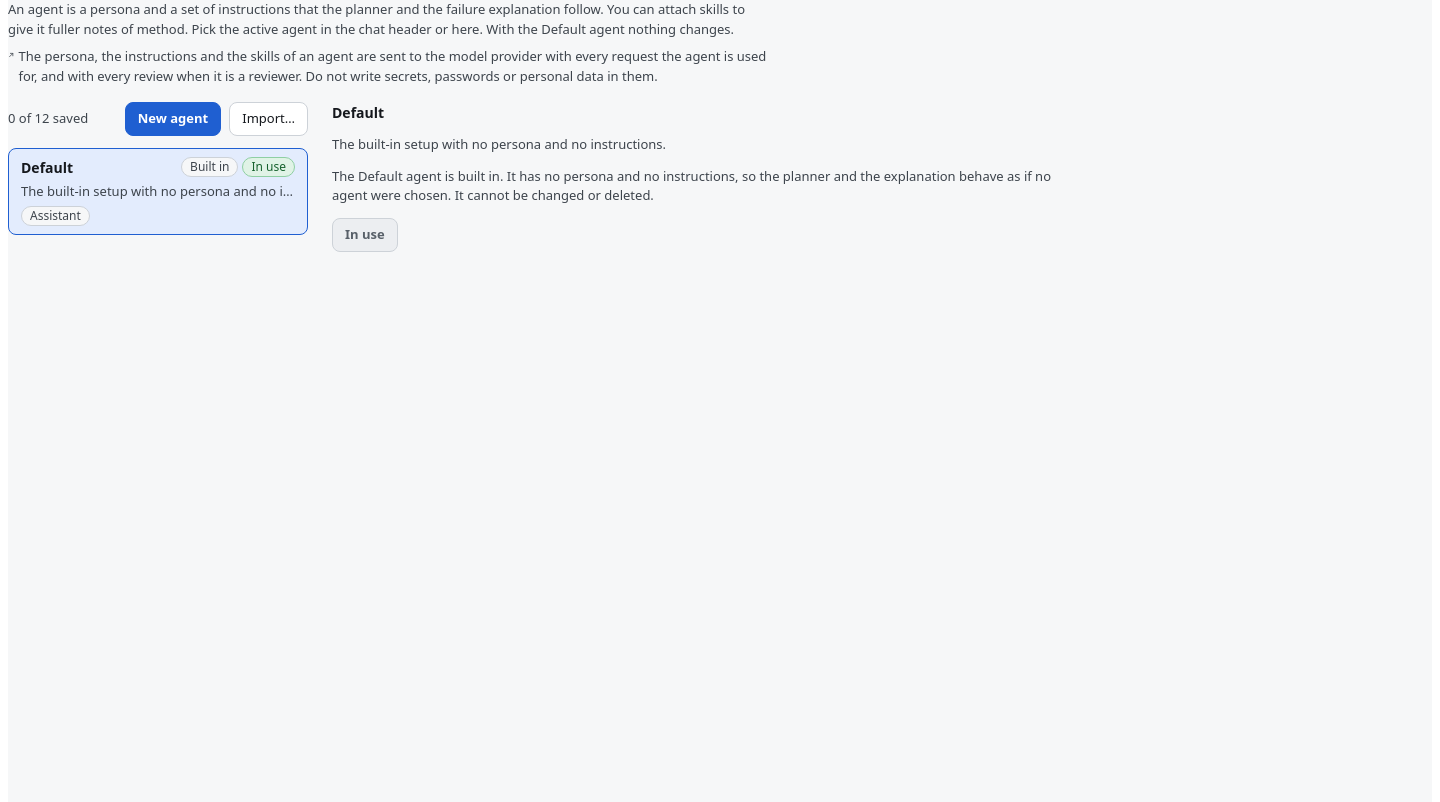
the review of an imported file › lists every problem with a plain message and a line number, and blocks Save
The width and height of the screenshot is (1440, 802).
Later steps or results of the test are not shown.
Expected: the list named "Agent list" is shown, [8, 148, 308, 234]
What coordinates should you click on to do the following:
click the button "Import…"
I would click on:
 (269, 119)
Its box is [229, 102, 308, 136].
(page scrolled)
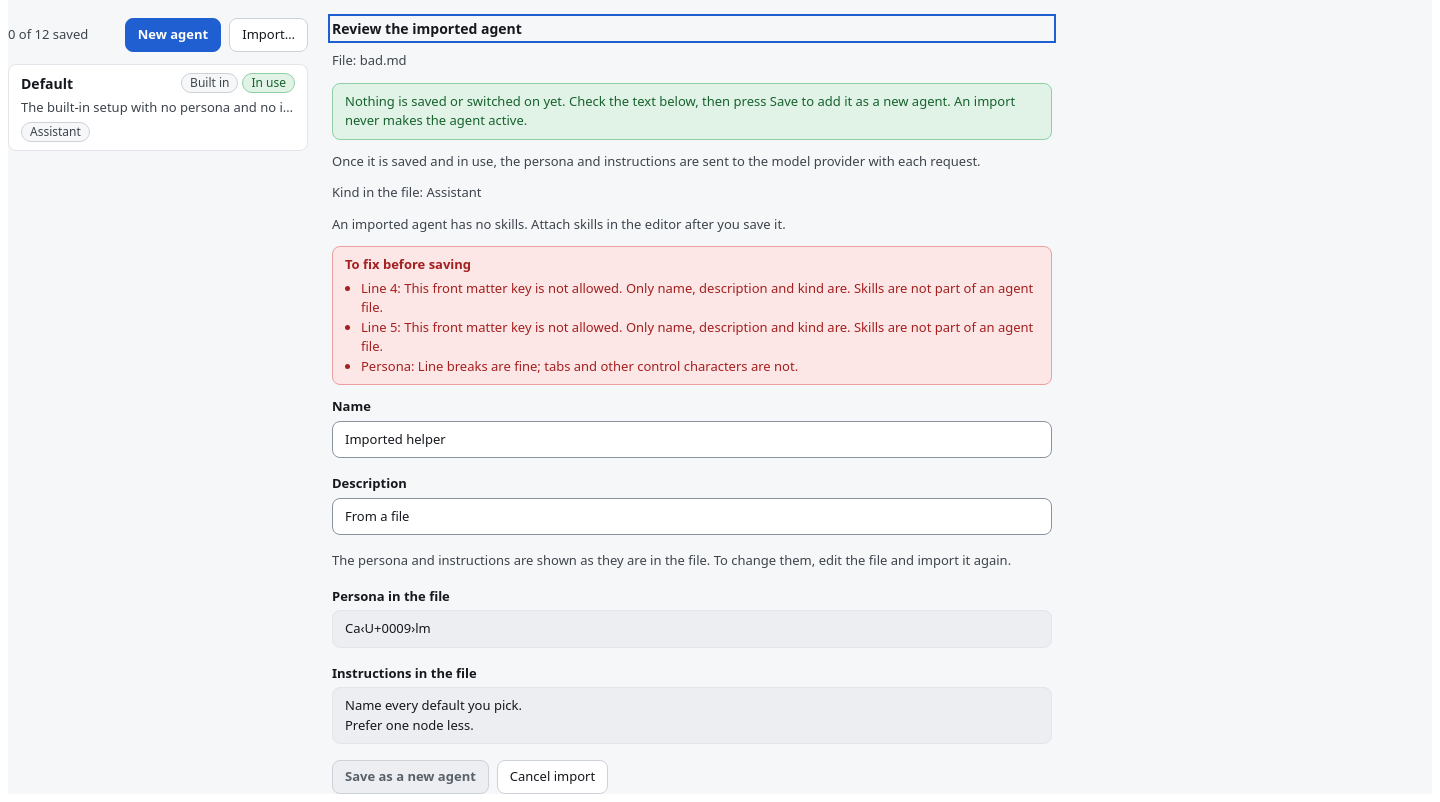
Now the heading "Review the imported agent" is shown, box [332, 19, 522, 38]
Now the text "To fix before saving" is shown, box [345, 255, 471, 273]
Now the list item "Line 4: This front matter key is not allowed. Only name, description and kind are. Skills are not part of an agent file." is shown, box [361, 278, 1033, 316]
